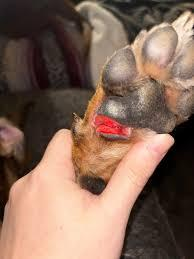cut: (90, 102, 145, 154)
